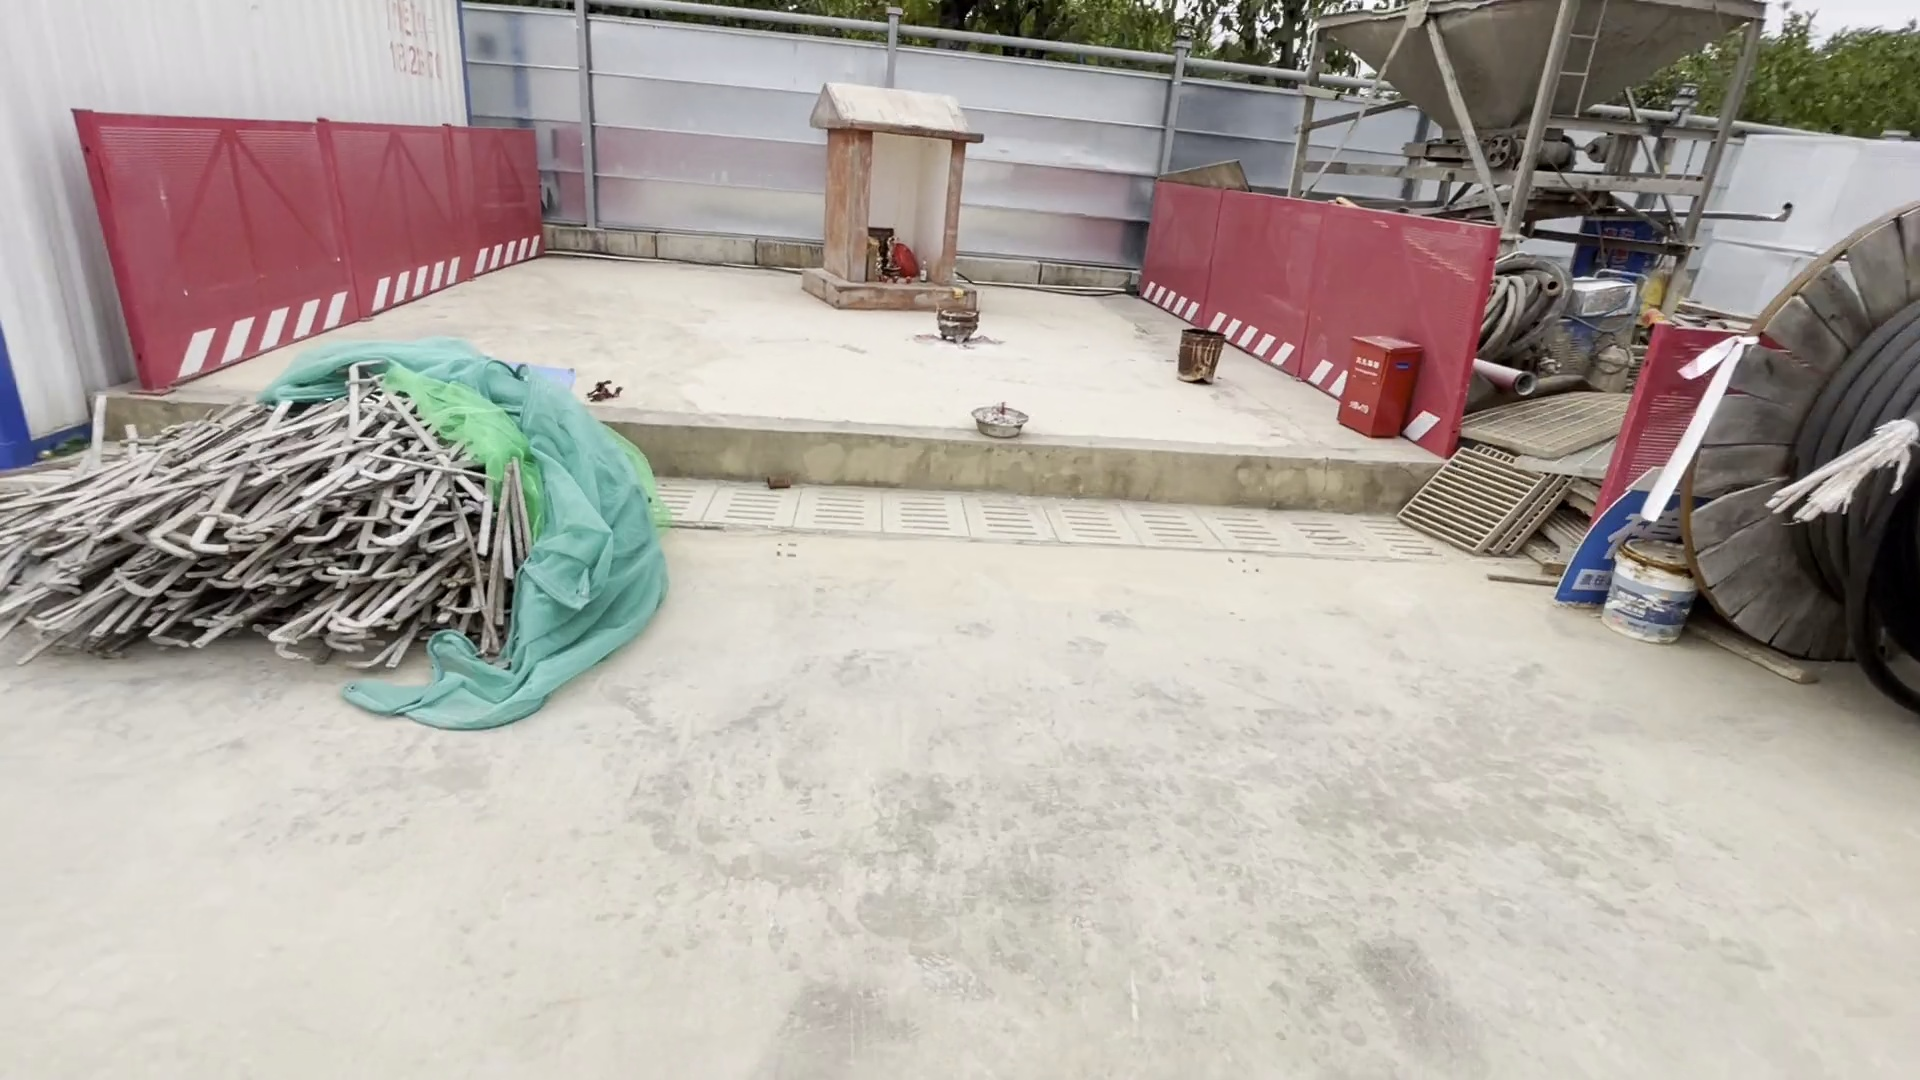fence: (62, 94, 567, 400), (1117, 170, 1497, 464)
